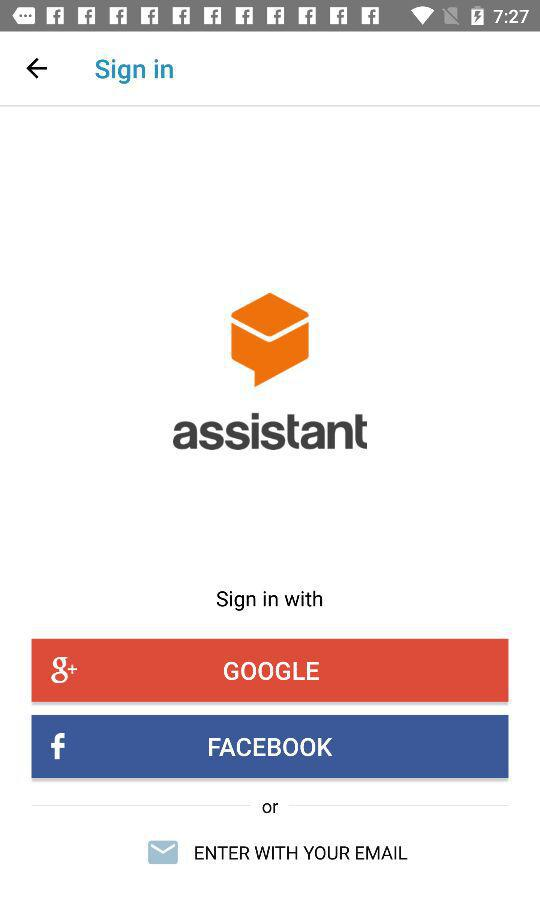Icon: (148, 840, 179, 865), (27, 58, 49, 80)
Image: (230, 292, 311, 389)
Text: (173, 412, 369, 452), (195, 845, 409, 861), (216, 589, 324, 613), (95, 59, 174, 86), (262, 802, 280, 814)
TextButton: (32, 638, 509, 703), (32, 715, 509, 779)
Toolbar: (2, 33, 540, 107)
UpperTaskBar: (1, 1, 540, 33)
